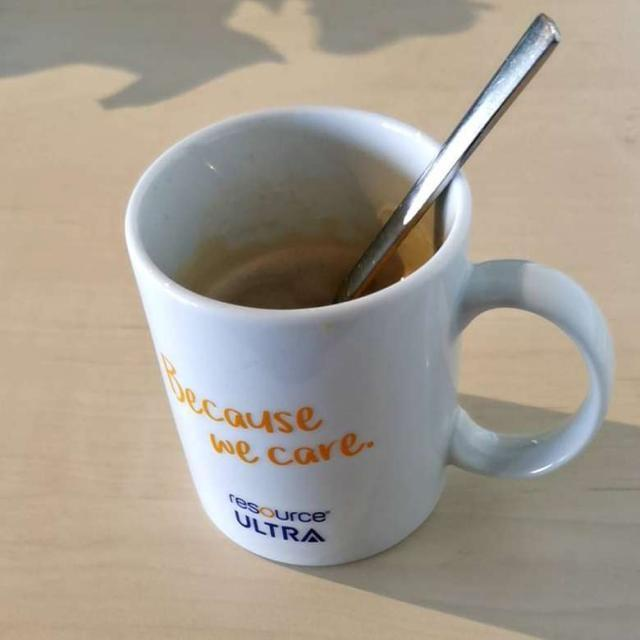coffee: (215, 257, 353, 300)
